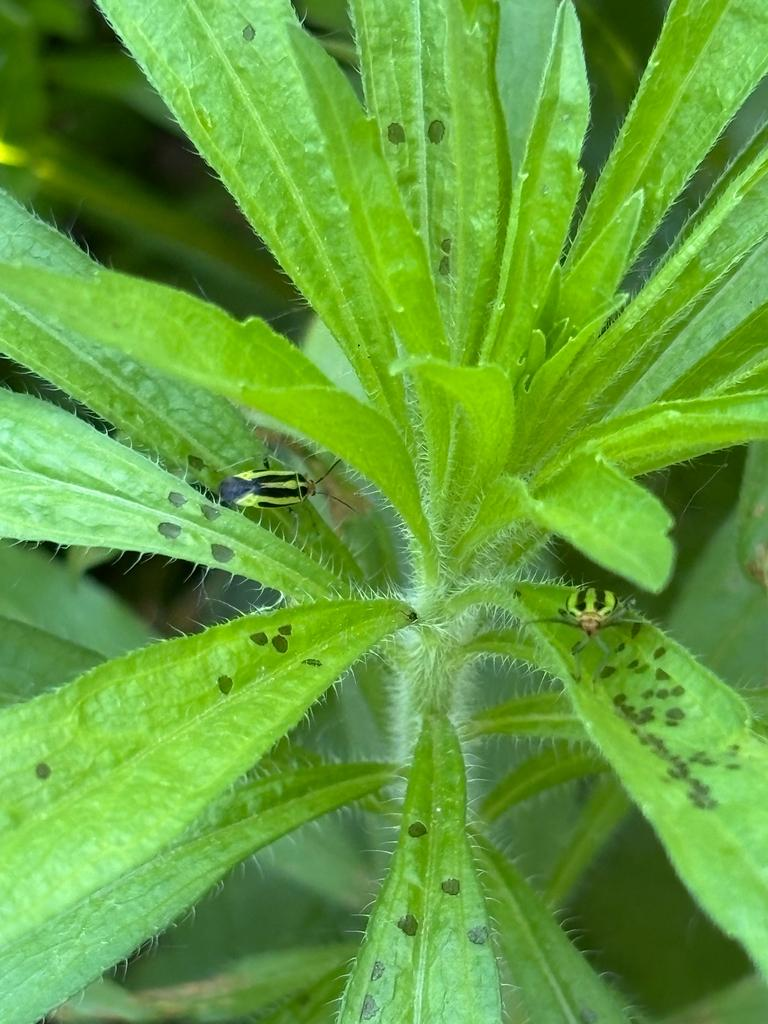plant_bugs: (193, 438, 379, 540), (515, 547, 658, 662)
